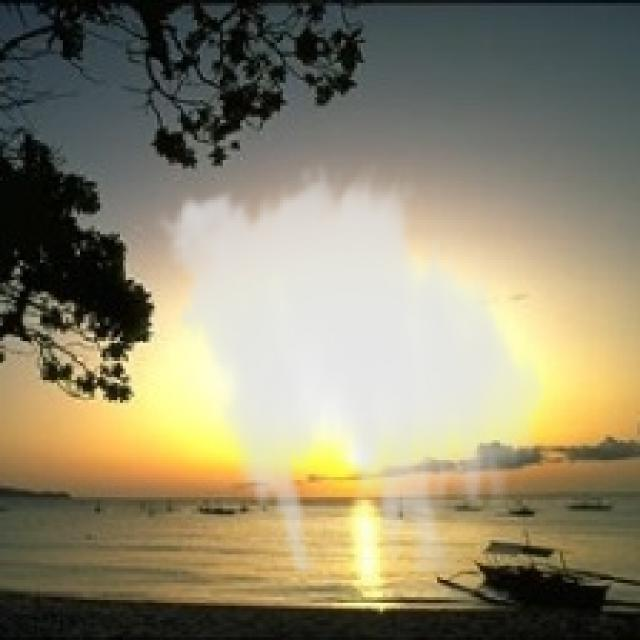smoke: (149, 160, 557, 574)
